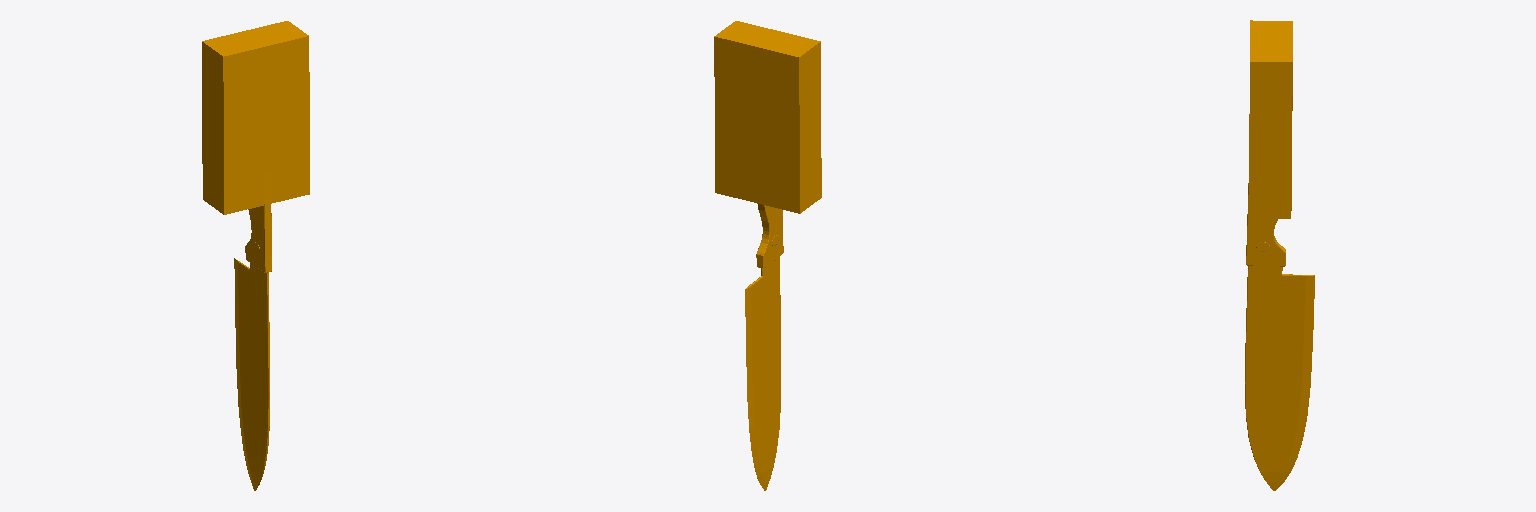
URDF robot description (knife):
<?xml version="1.0" ?>
<robot name="knife">
  <link name="knife">
    <visual>
      <origin xyz="0 0 0"/>
      <geometry>
        <mesh filename="knife.dae" />
      </geometry>
    </visual>
    <collision>
      <origin xyz="0 0 0"/>
      <geometry>
        <mesh filename="knife.dae" />
      </geometry>
    </collision>
    <inertial>
      <mass value="0.5"/> 
      <inertia ixx="0.0001" ixy="0.0" ixz="0.0" iyy="0.0001" iyz="0.0" izz="0.0001"/>
    </inertial>
  </link>
</robot>

--- Render facts (derived) ---
Views: 3 orthographic renders of the robot side by side, from view 1: azimuth 30°, elevation 25°; view 2: azimuth 150°, elevation 25°; view 3: azimuth 270°, elevation 25°.
Robot: knife — 1 links, 0 joints (none); root link knife; default pose: all joints at 0.
Visible links, largest first — view 1: knife; view 2: knife; view 3: knife.
Boxes of the visible links, box(x1,y1,x2,y2) form: knife: box(202, 21, 309, 490); knife: box(714, 21, 821, 490); knife: box(1245, 20, 1314, 490).
Size in the robot's own frame: 0.0362 by 0.026 by 0.1832 metres.
1 mesh visuals loaded from 1 distinct referenced files (1 Collada DAE).